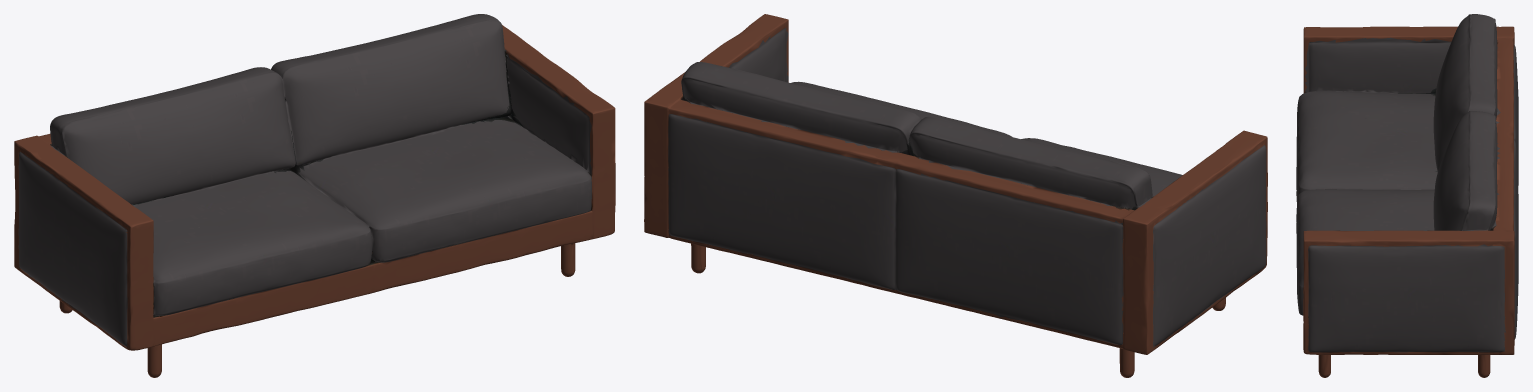
The picture shows the model from 3 angles, left to right: view 1: azimuth 30°, elevation 25°; view 2: azimuth 150°, elevation 25°; view 3: azimuth 270°, elevation 25°; orthographic projection. The views are drawn at different scales.
Parts seen in each view (by area): view 1: tripo_node_cdd4bcad-35ff-4ce9-b6b9-533ba3c80356; view 2: tripo_node_cdd4bcad-35ff-4ce9-b6b9-533ba3c80356; view 3: tripo_node_cdd4bcad-35ff-4ce9-b6b9-533ba3c80356.
Part boxes in pixels (x1,y1,x2,y2): tripo_node_cdd4bcad-35ff-4ce9-b6b9-533ba3c80356: (14, 14, 615, 377); tripo_node_cdd4bcad-35ff-4ce9-b6b9-533ba3c80356: (644, 14, 1267, 377); tripo_node_cdd4bcad-35ff-4ce9-b6b9-533ba3c80356: (1296, 14, 1518, 377).
Bounding box in the file's own units: 2.1 × 0.8 × 0.9.
Materials: 3 (2 with a texture image).
